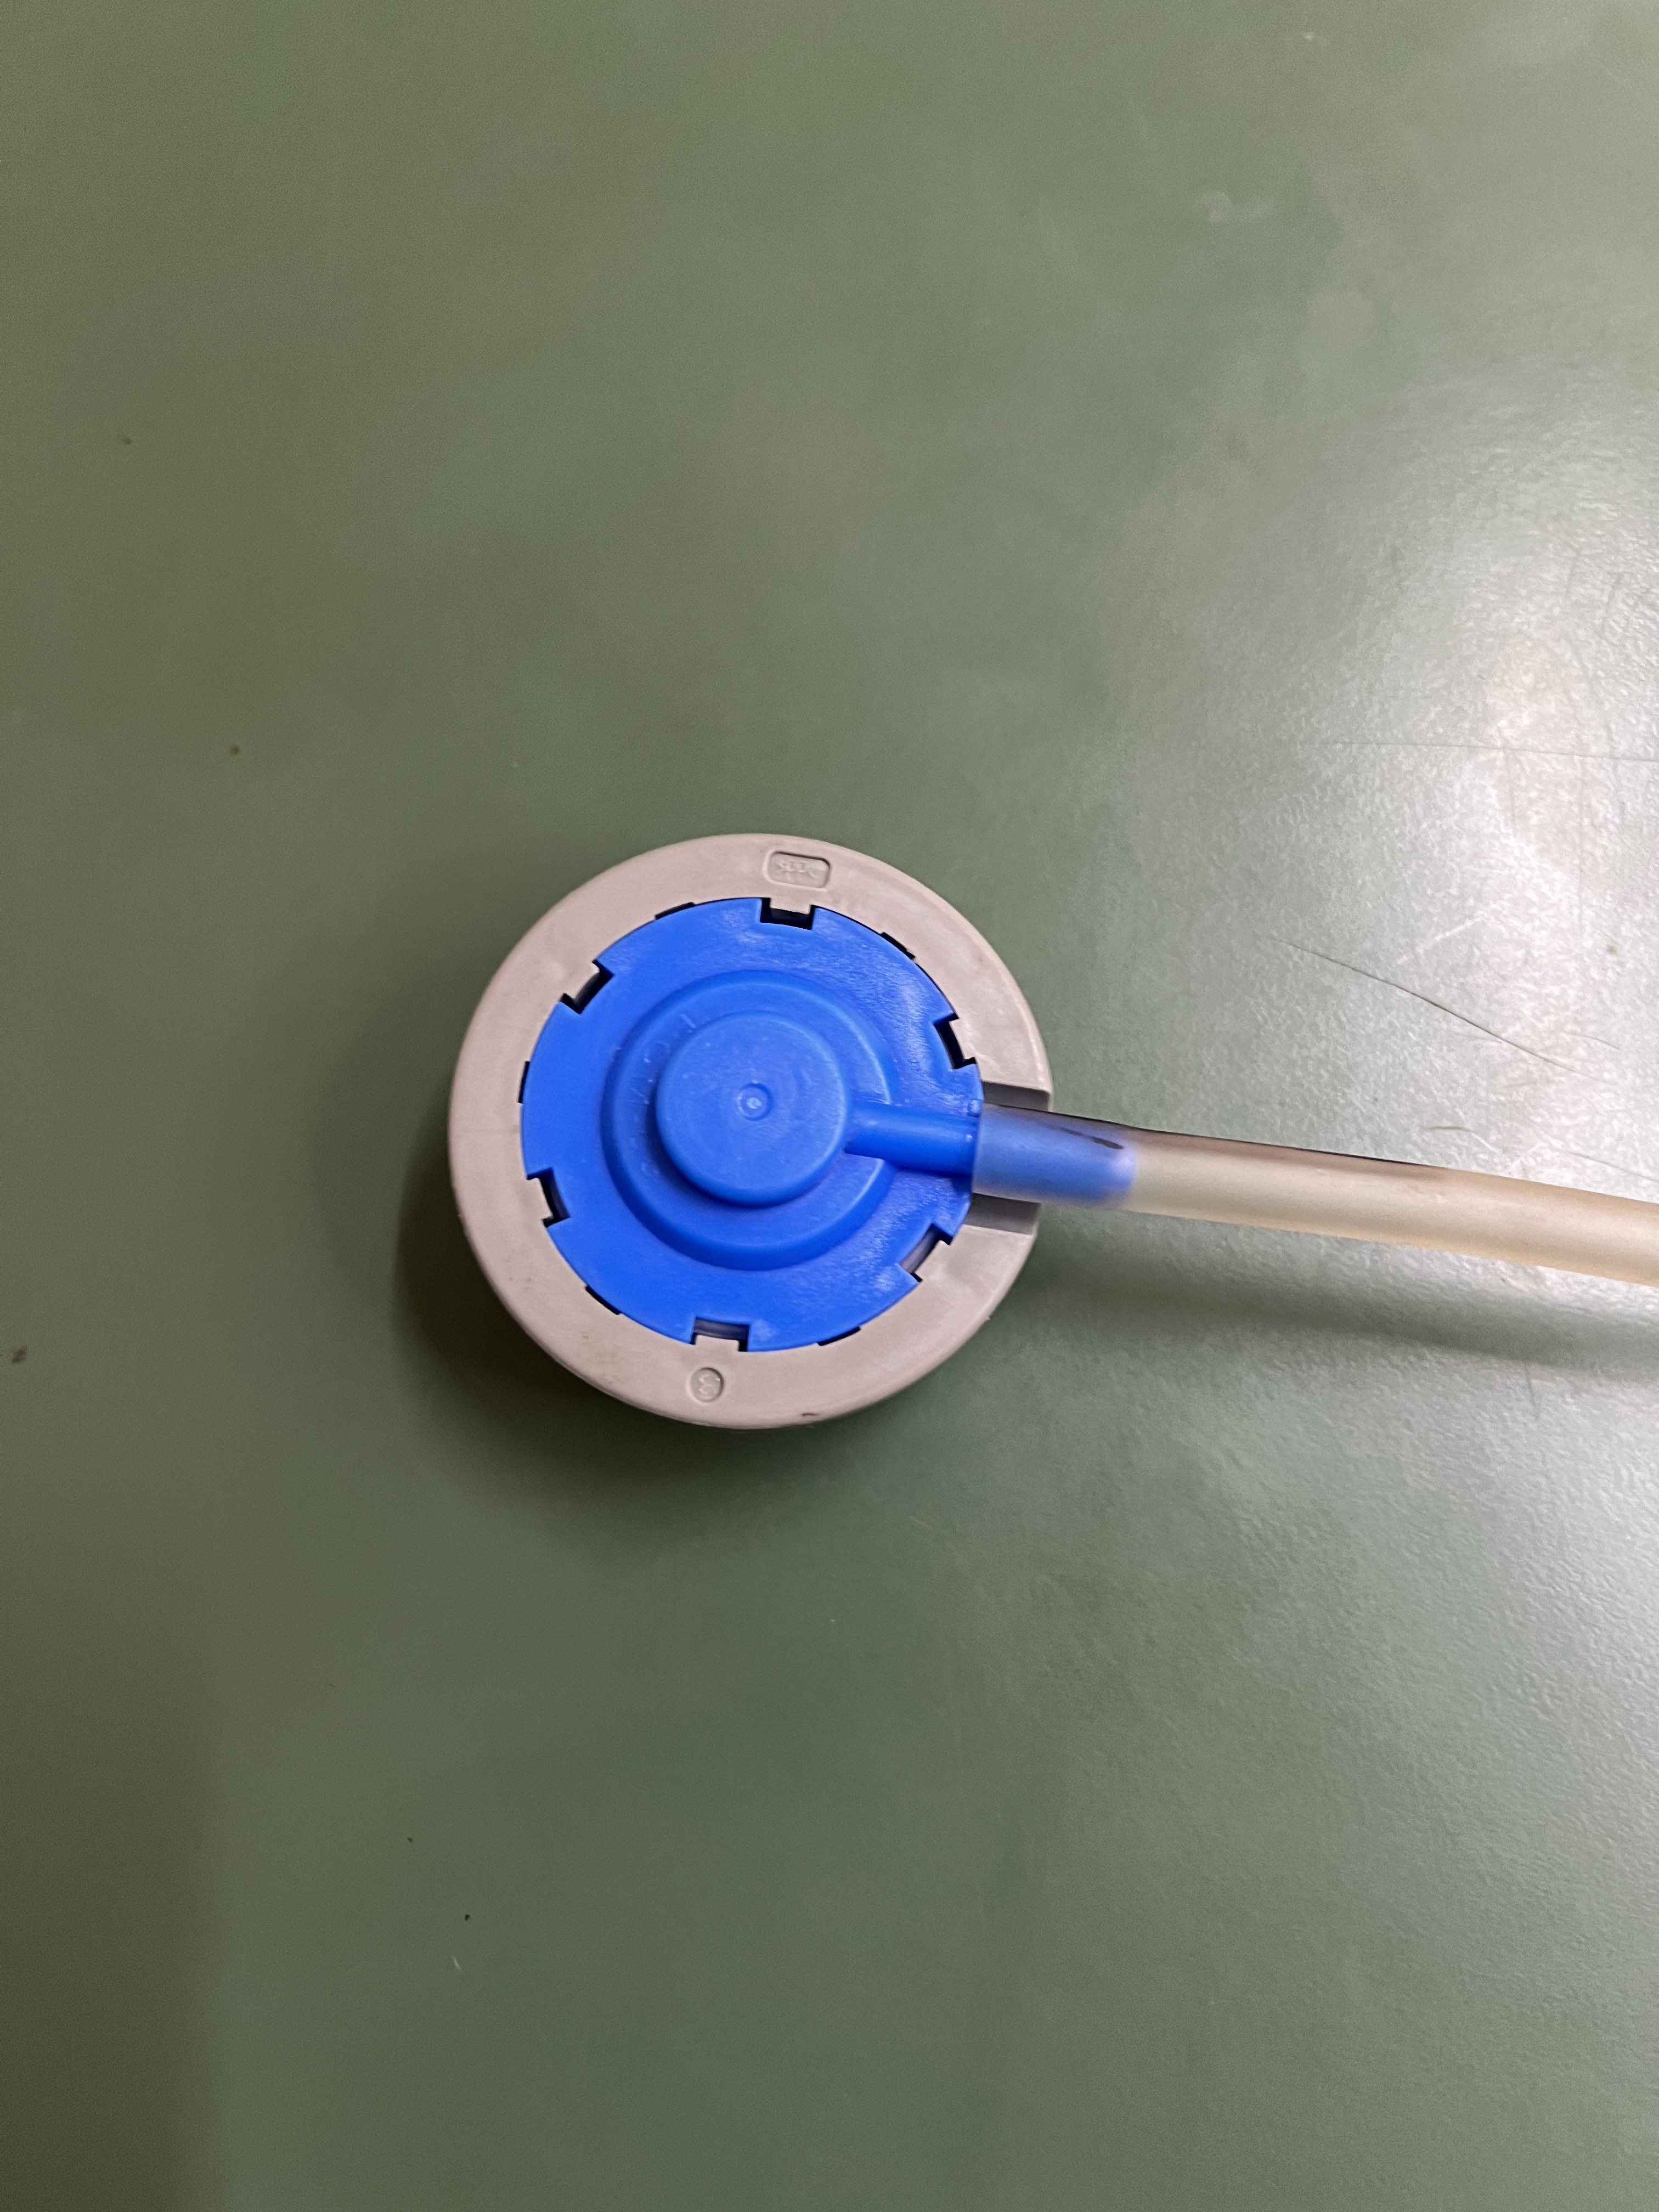pressure_sensor: (432, 850, 1091, 1426)
